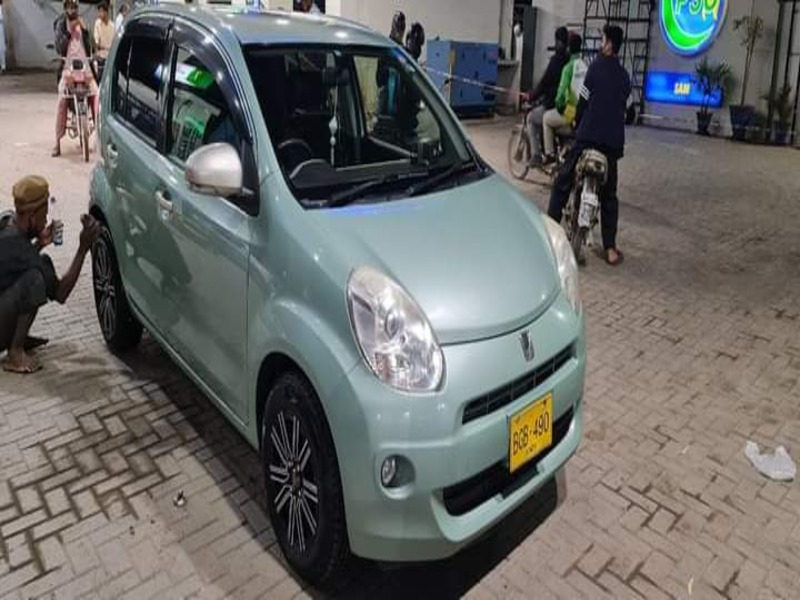License Plate: (501, 391, 556, 473)
